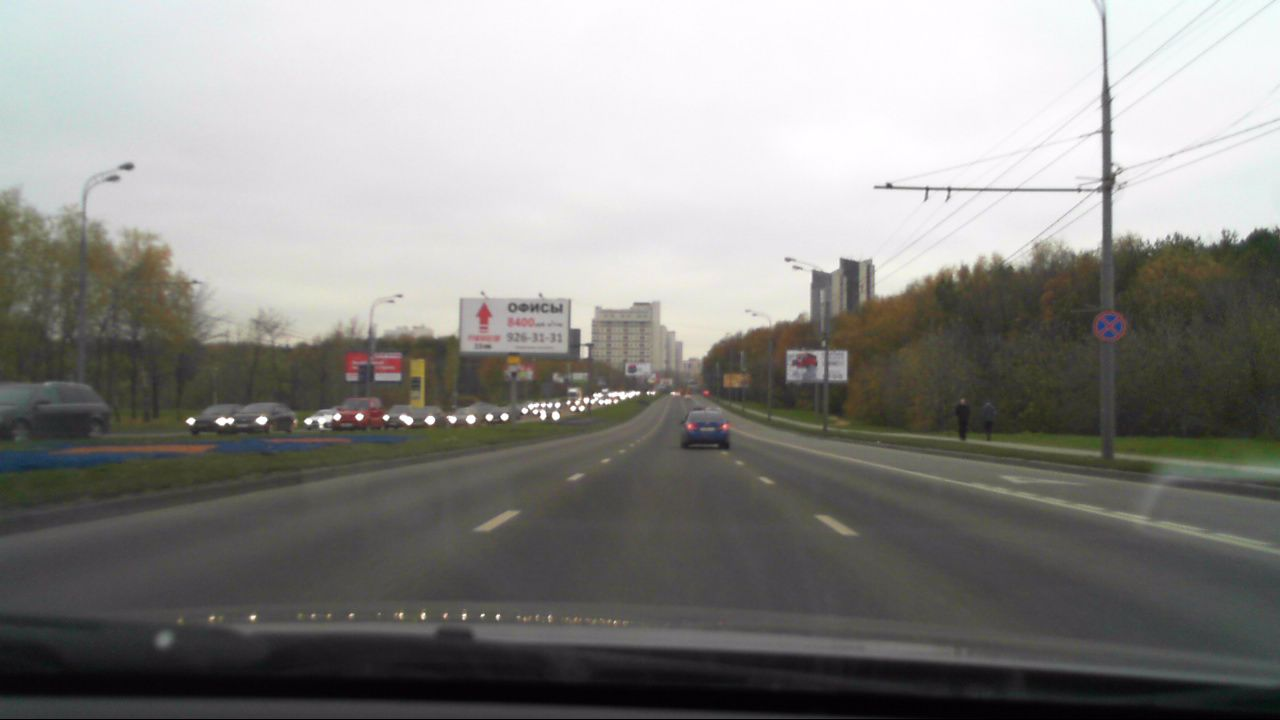No Parking: (1093, 310, 1126, 341)
